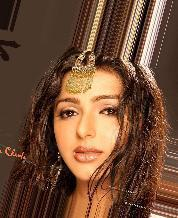face: (57, 97, 118, 162)
